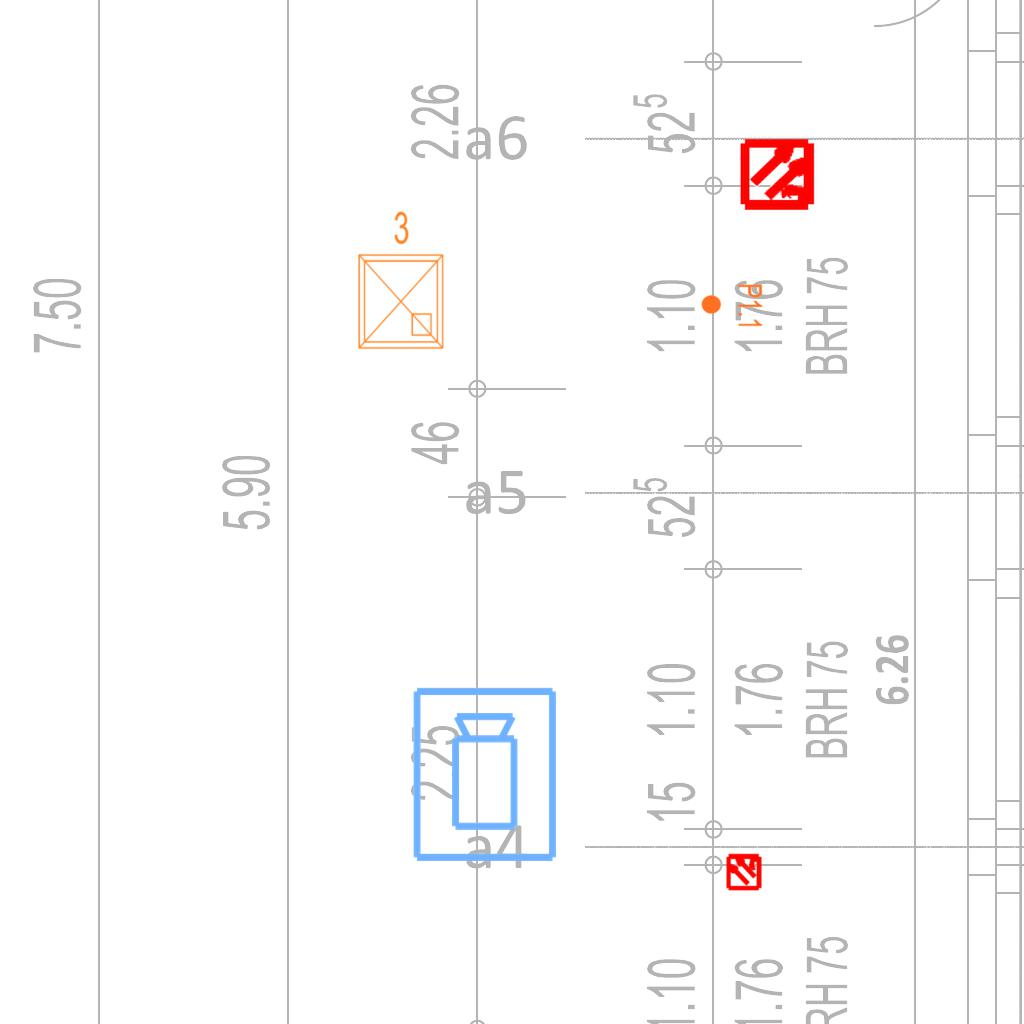Downlight_LED_Einbauleuchten_Flur: (700, 283, 764, 329)
Einbaudownlights_LED_Konferenzraeume: (347, 206, 451, 356)
KFO_Kamera_mit_Festobjektiv: (409, 684, 563, 866)
OT_Multisensormelder_(Kombination_RMO_WMD): (723, 118, 836, 231), (716, 843, 772, 899)
